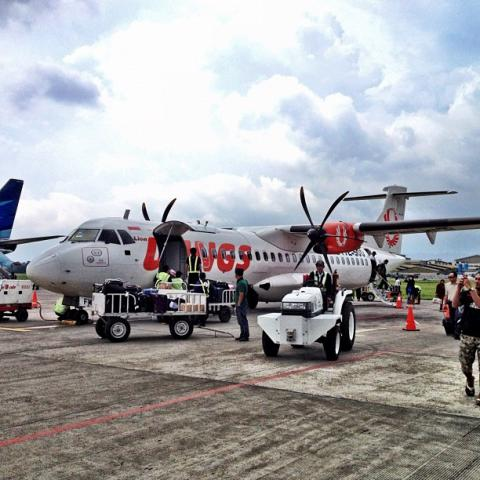truck: (256, 276, 358, 362), (0, 266, 33, 323)
